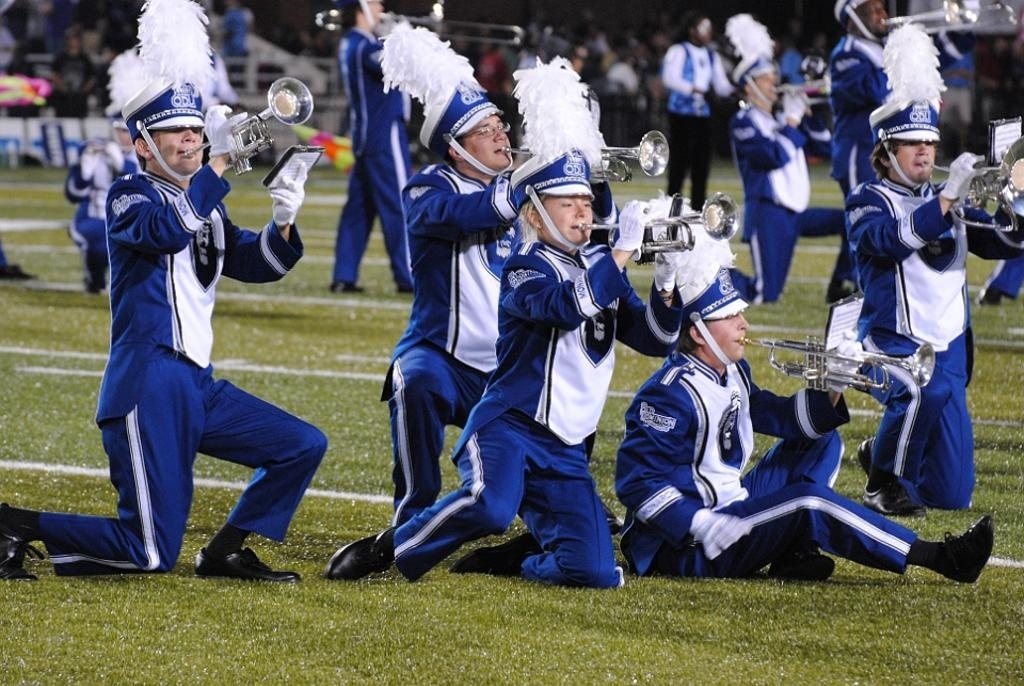human_face: (138, 104, 204, 175), (532, 178, 594, 244), (450, 108, 512, 172), (692, 296, 748, 362), (887, 126, 935, 182), (850, 1, 890, 40), (750, 67, 778, 99)
